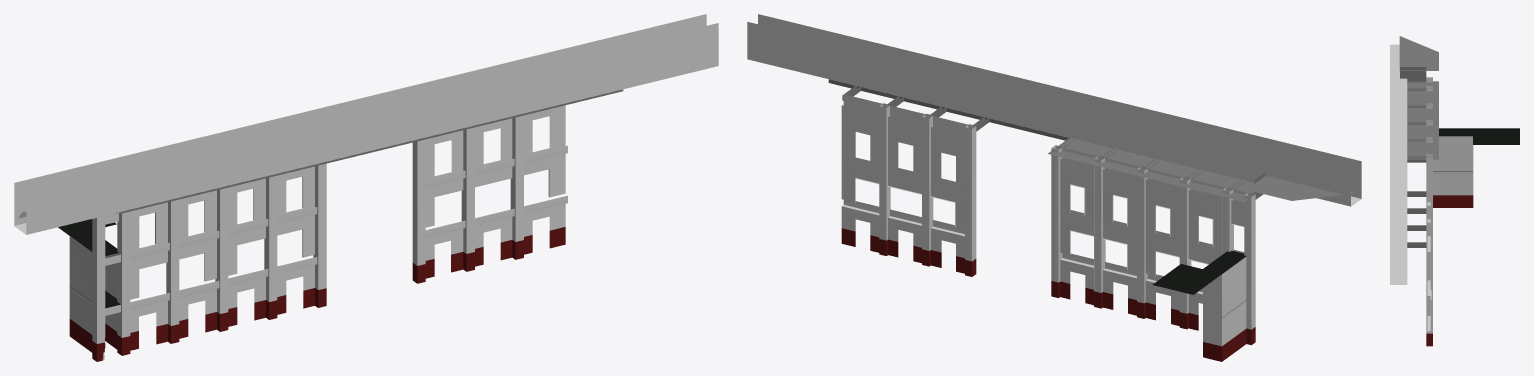
File: SM_H_Building_Tide_Jail_A_03c_ATLAS.fbx
3 renders of one model, left to right at view 1: azimuth 30°, elevation 25°; view 2: azimuth 150°, elevation 25°; view 3: azimuth 270°, elevation 25°, orthographic. The views are drawn at different scales.
Parts seen in each view (by area): view 1: SM_H_Building_Tide_Jail_A_03c_ATLAS; view 2: SM_H_Building_Tide_Jail_A_03c_ATLAS; view 3: SM_H_Building_Tide_Jail_A_03c_ATLAS.
Part boxes in pixels (box(x1,y1,x2,y2)): SM_H_Building_Tide_Jail_A_03c_ATLAS: box(14, 14, 718, 361); SM_H_Building_Tide_Jail_A_03c_ATLAS: box(747, 14, 1361, 361); SM_H_Building_Tide_Jail_A_03c_ATLAS: box(1390, 36, 1519, 346).
Size of the model in its own units: 7695 by 1754 by 2250.
